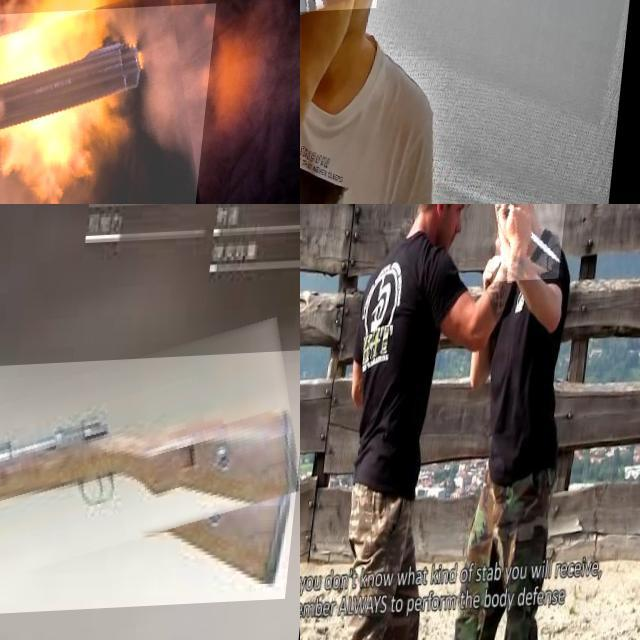-: (498, 204, 571, 285)
gun-knife-thesis - v11 Yolov5 augmented: (0, 356, 300, 630), (0, 7, 222, 204), (300, 0, 404, 133)
